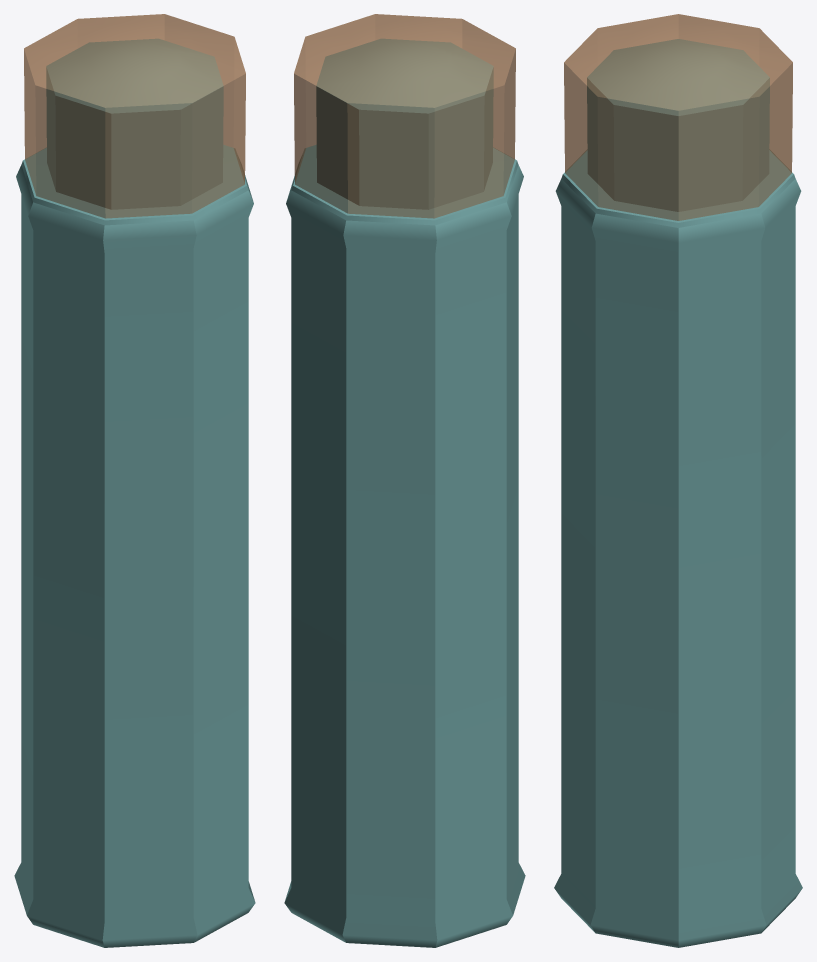
The model's file is IO_ShavingFoamCan_04.fbx.
The picture shows the model from 3 angles, left to right: view 1: azimuth 30°, elevation 25°; view 2: azimuth 150°, elevation 25°; view 3: azimuth 270°, elevation 25°; orthographic projection.
Visible parts, largest first — view 1: Shaving_Foam_Can, Shaving_Foam_Can_Lid; view 2: Shaving_Foam_Can, Shaving_Foam_Can_Lid; view 3: Shaving_Foam_Can, Shaving_Foam_Can_Lid.
Boxes of the visible parts, <box> form: Shaving_Foam_Can: <box>14,38,255,947</box>; Shaving_Foam_Can_Lid: <box>24,14,245,218</box>; Shaving_Foam_Can: <box>284,38,525,947</box>; Shaving_Foam_Can_Lid: <box>294,14,515,218</box>; Shaving_Foam_Can: <box>554,39,802,947</box>; Shaving_Foam_Can_Lid: <box>564,14,792,220</box>.
Size of the model in its own units: 8.41 by 31.87 by 8.41.
